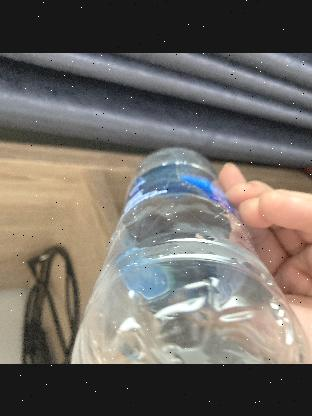Plastic Bottle: (56, 142, 312, 364)
